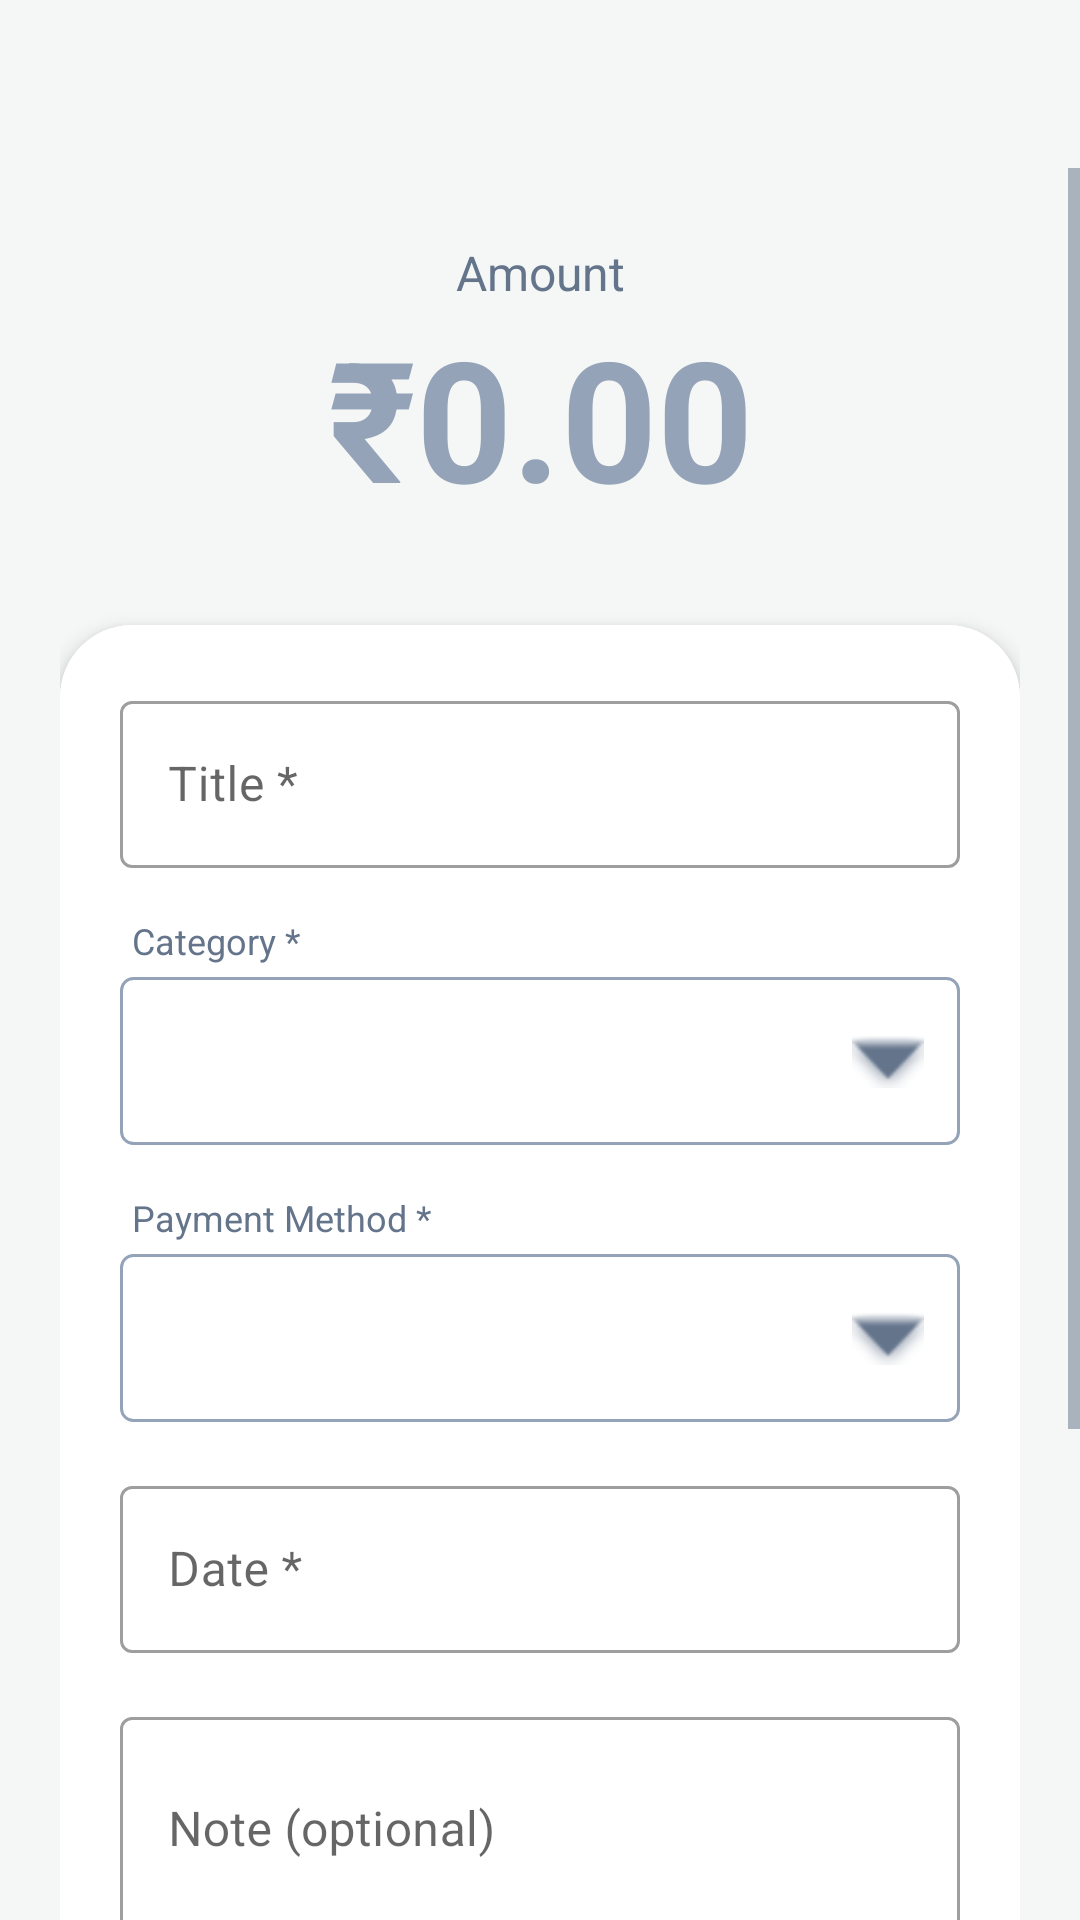

Icon click points for this 1080*1920 phone screenshot, format point (x, y):
arrow down float: point (888, 1060), point (888, 1337)
